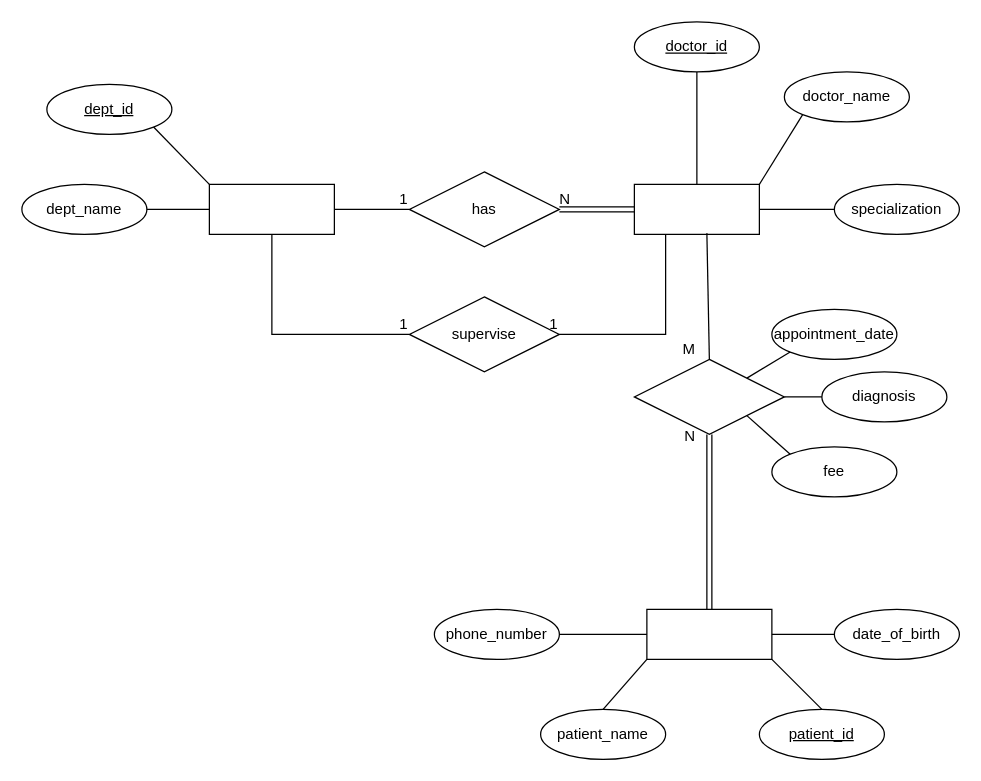
The diagram is 981 pixels wide and 781 high, and some of its shapes have lost their labels. The box of each missing label's shape, as (x1, y1, x2, y2) in pixels:
Departments: (208, 183, 334, 234)
Doctors: (633, 183, 759, 234)
Patients: (646, 608, 772, 659)
visits: (633, 358, 784, 434)
